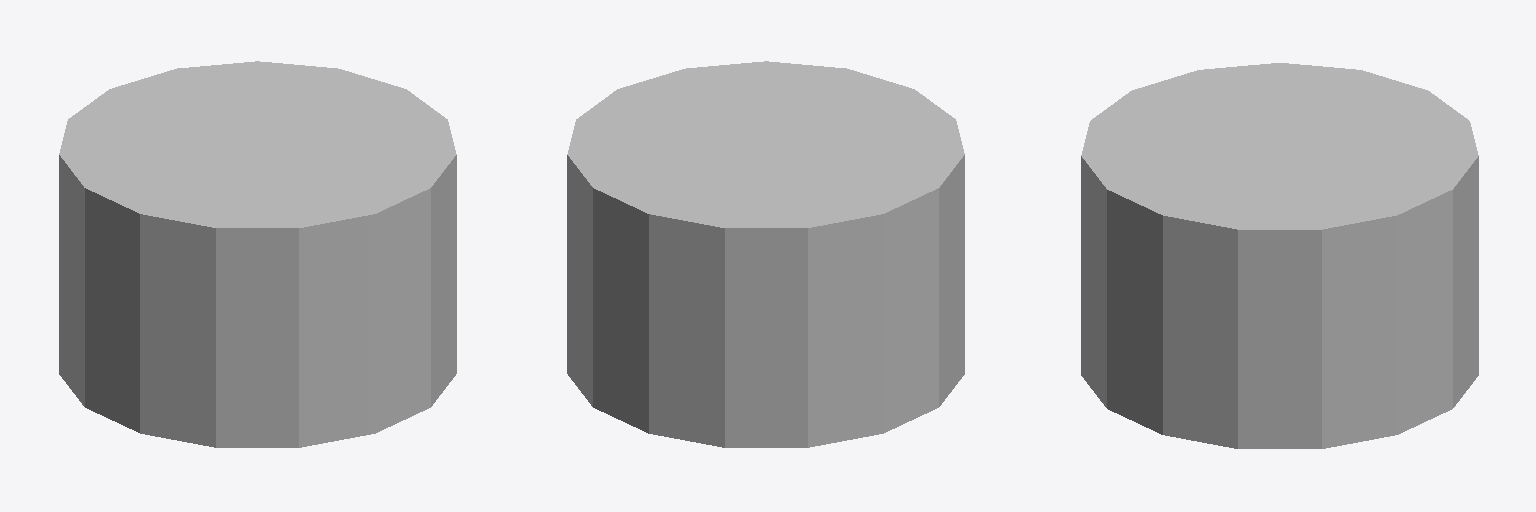
Rendered from canned_food_4.obj.
3 views of the same model, side by side, from view 1: azimuth 30°, elevation 25°; view 2: azimuth 150°, elevation 25°; view 3: azimuth 270°, elevation 25° (orthographic).
Parts seen in each view (by area): view 1: pCylinder1; view 2: pCylinder1; view 3: pCylinder1.
Boxes of the visible parts, <box> form: pCylinder1: <box>59,61,456,447</box>; pCylinder1: <box>567,61,964,447</box>; pCylinder1: <box>1081,63,1478,448</box>.
Bounding box in the file's own units: 0.8091 × 0.496 × 0.8135.